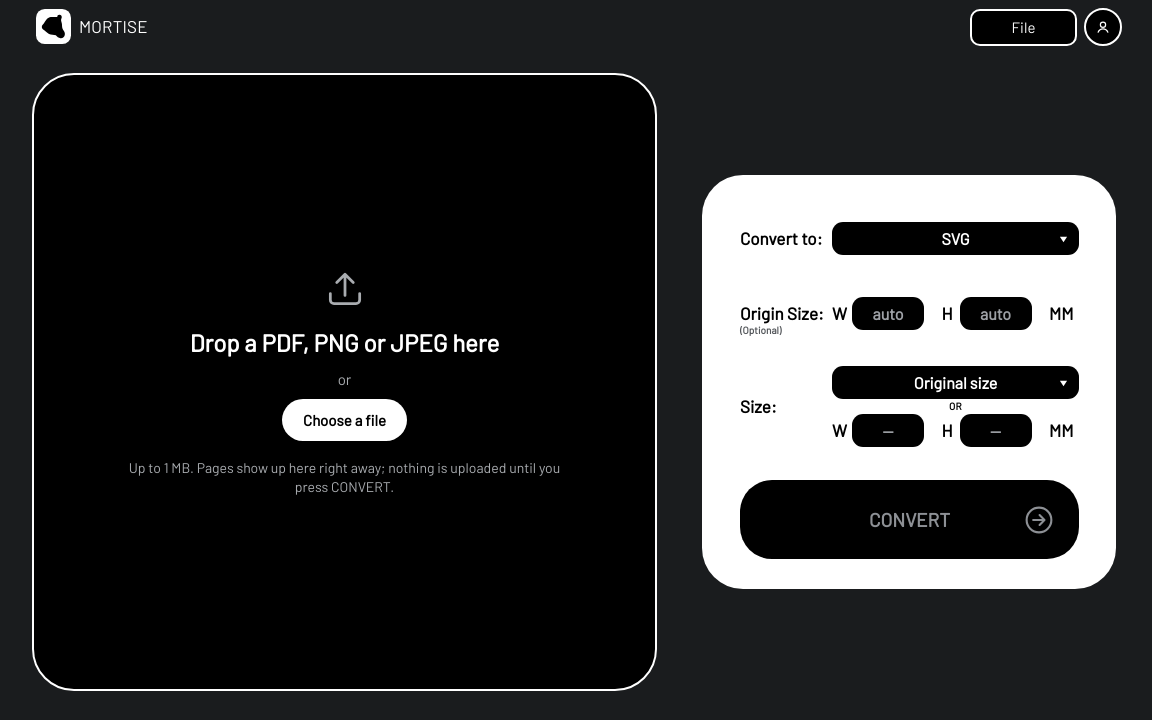
Test: App › keeps download items disabled until a job is done
Click the button with aria-label "File menu".
click(1024, 27)  # box [970,8,1077,46]
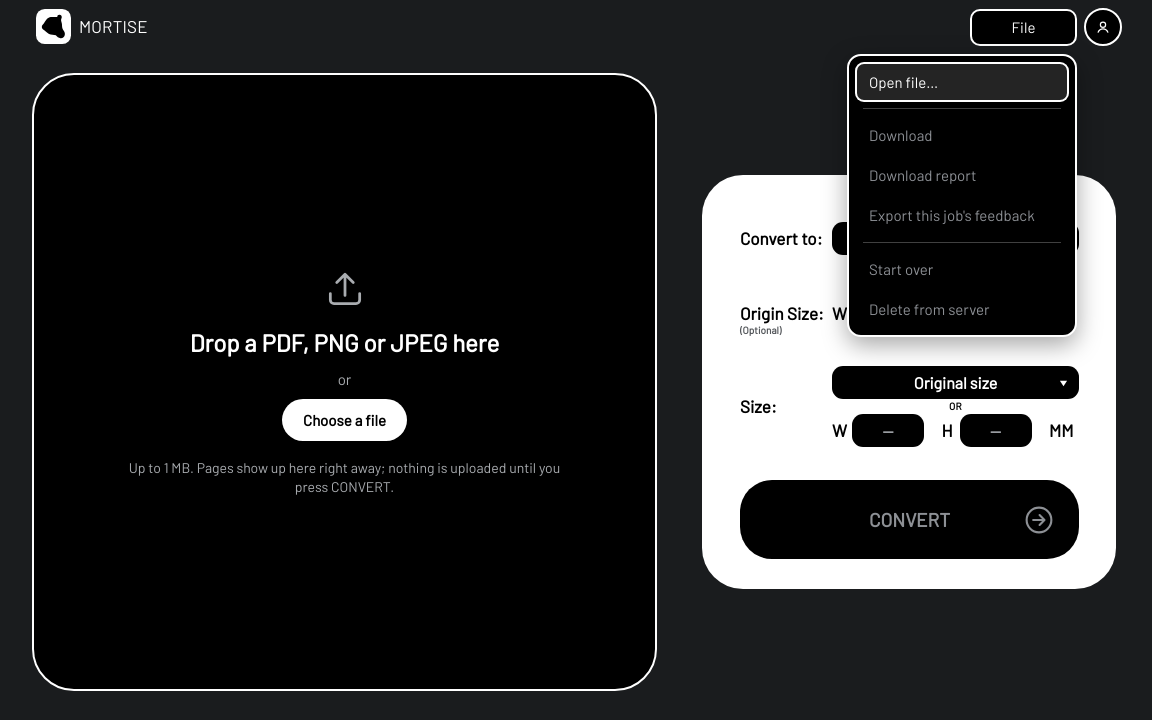
Press Escape
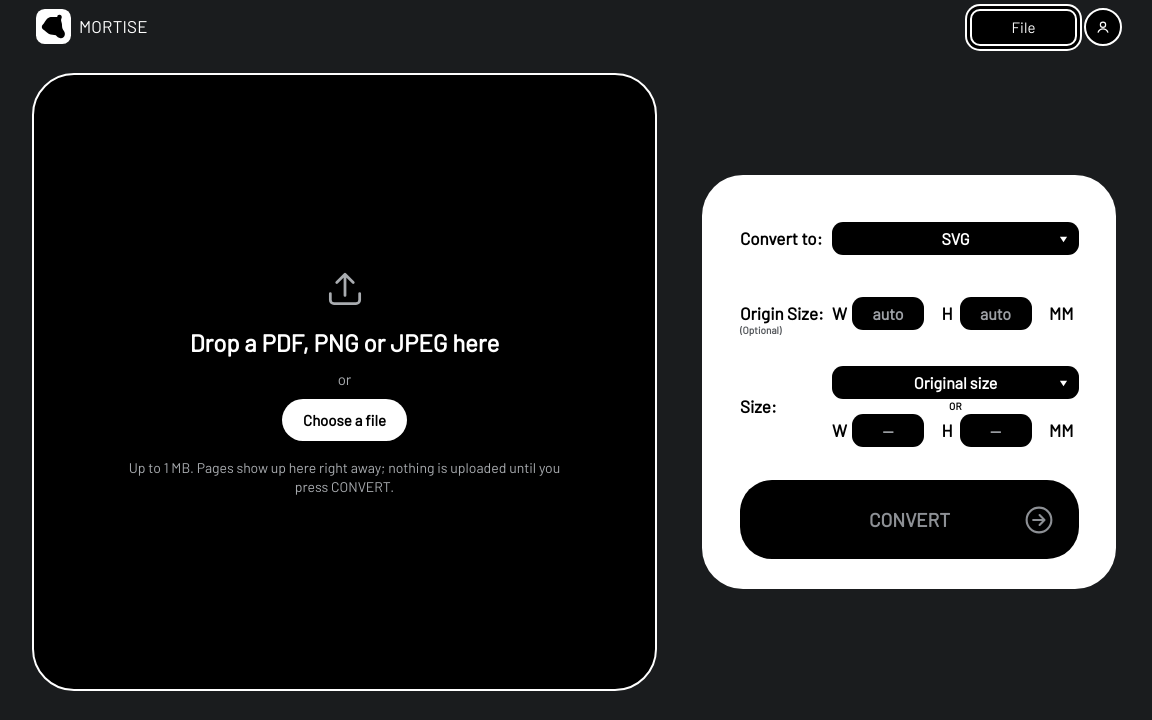
Result: the menu is gone
